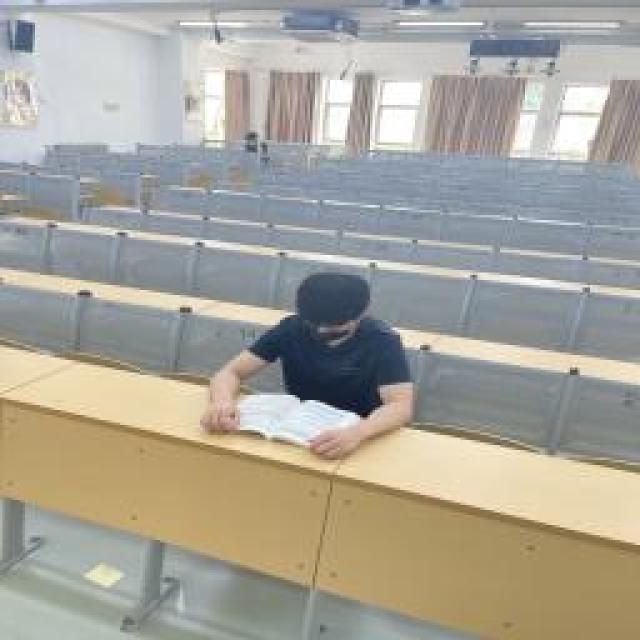study: (200, 272, 412, 458), (240, 130, 268, 152)
